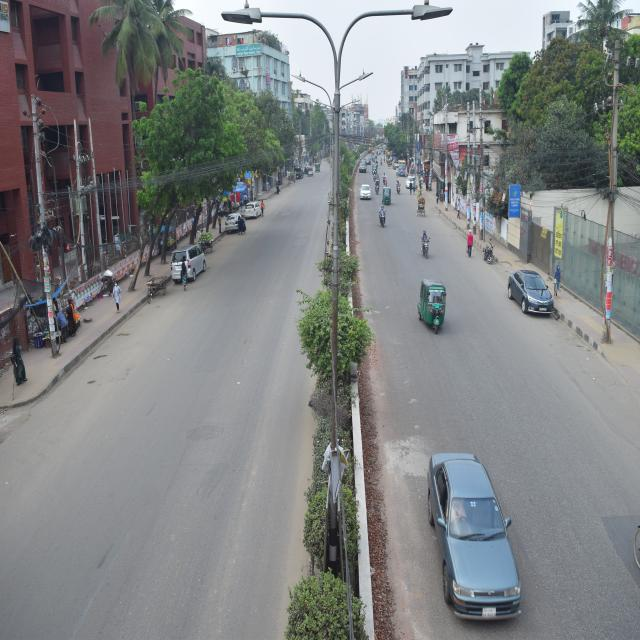car: (412, 449, 530, 618), (506, 262, 564, 316), (218, 207, 244, 235), (245, 194, 262, 221), (356, 158, 371, 178), (359, 185, 373, 202), (403, 175, 418, 187)
microbus: (171, 241, 214, 293)
motorbike: (419, 226, 434, 263), (378, 204, 397, 232), (481, 245, 500, 267), (382, 171, 390, 187), (374, 175, 382, 188)
